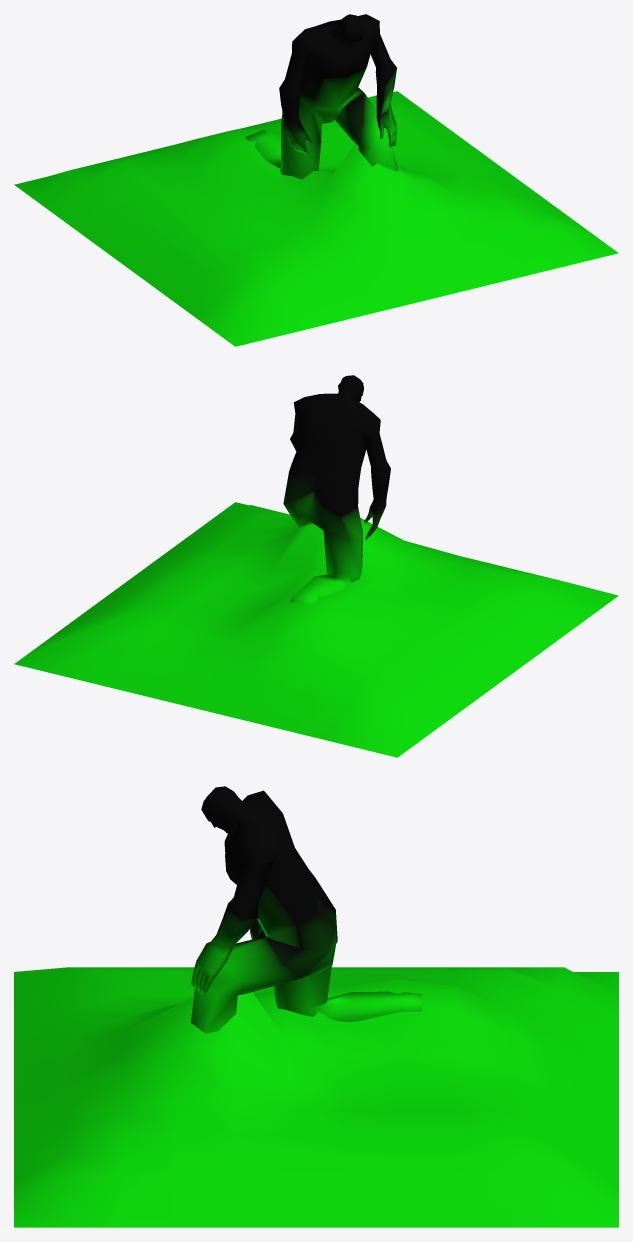
Rendered from ColossalPaths5Model.fbx.
The picture shows the model from 3 angles, top to bottom: view 1: azimuth 30°, elevation 25°; view 2: azimuth 150°, elevation 25°; view 3: azimuth 270°, elevation 25°; orthographic projection. The views are drawn at different scales.
Parts seen in each view (by area): view 1: Colossal_Paths.004; view 2: Colossal_Paths.004; view 3: Colossal_Paths.004.
Boxes of the visible parts, <box> form: Colossal_Paths.004: <box>14,14,618,346</box>; Colossal_Paths.004: <box>14,375,618,757</box>; Colossal_Paths.004: <box>14,786,618,1227</box>.
Size of the model in its own units: 19440 by 11098 by 19440.
